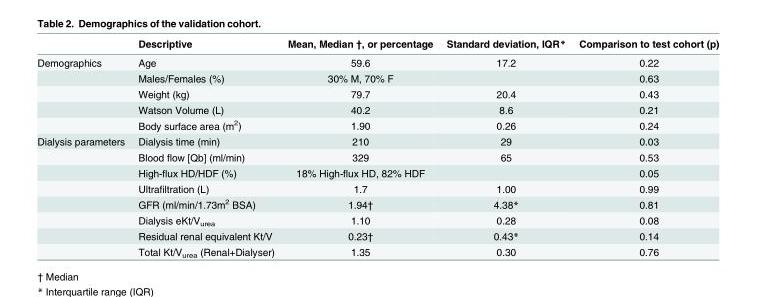table: (36, 37, 718, 258)
table column: (280, 37, 438, 258), (130, 37, 280, 258), (571, 37, 718, 258), (438, 37, 571, 258), (36, 37, 130, 258)
table column header: (36, 37, 718, 52)
table row: (36, 52, 718, 70), (36, 116, 718, 133), (36, 195, 718, 212), (36, 85, 718, 101), (36, 148, 718, 164), (36, 164, 718, 180), (36, 212, 718, 228), (36, 37, 718, 52), (36, 70, 718, 85), (36, 101, 718, 116), (36, 133, 718, 148), (36, 180, 718, 195), (36, 228, 718, 243), (36, 243, 718, 258)
table spanning cell: (36, 133, 130, 258), (36, 52, 130, 133)
